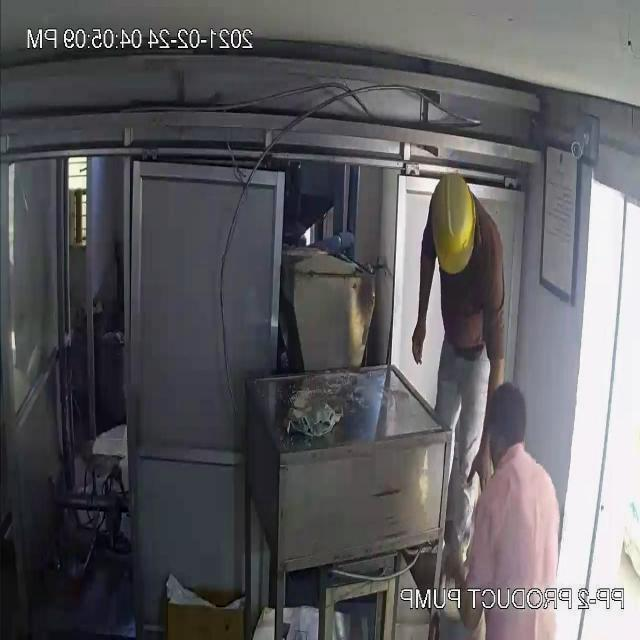hand_noglove: (408, 321, 428, 369)
head_helmet: (428, 170, 477, 275)
head_nohelmet: (487, 381, 531, 434)
person: (403, 169, 511, 531), (445, 380, 567, 640)
